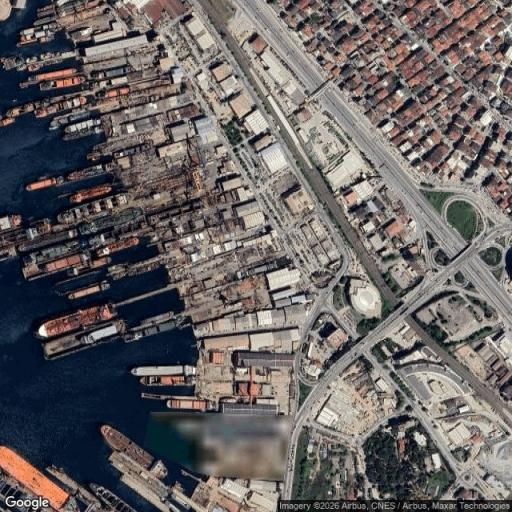ship: (0, 447, 69, 511), (100, 425, 167, 477), (43, 320, 124, 359), (37, 305, 115, 338), (22, 253, 90, 280), (79, 208, 142, 235), (24, 240, 79, 264), (124, 320, 183, 342), (90, 484, 135, 511), (36, 96, 87, 117), (20, 68, 76, 87), (97, 237, 139, 256), (50, 109, 89, 129), (70, 184, 111, 203), (68, 258, 111, 276), (68, 281, 109, 299), (67, 164, 105, 181), (131, 365, 195, 375), (166, 397, 211, 411), (40, 76, 85, 90), (64, 124, 103, 140), (27, 176, 64, 191), (64, 119, 101, 134), (35, 68, 76, 81), (140, 376, 187, 385), (7, 103, 35, 117), (0, 54, 24, 70), (99, 87, 129, 98), (0, 216, 22, 231), (0, 117, 15, 127)
